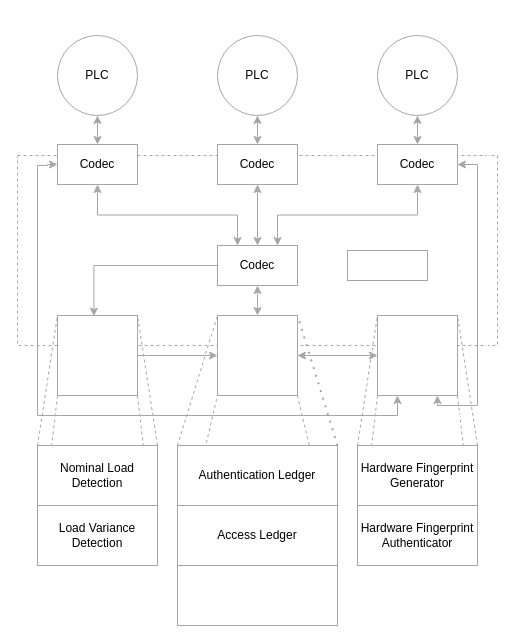
Some shapes in this 515 by 643 pixel diagram are drawn without their labels. The centre of each missing label's shape, as x and y in pixels:
"DCS Control" belongs at [257,355].
"Encrypted Traffic" belongs at [387,265].
"Hardware Fingerprint Authorization" belongs at [417,355].
"Load Fingerprint Analzer" belongs at [97,355].
"Transaction Ledger" belongs at [257,595].
